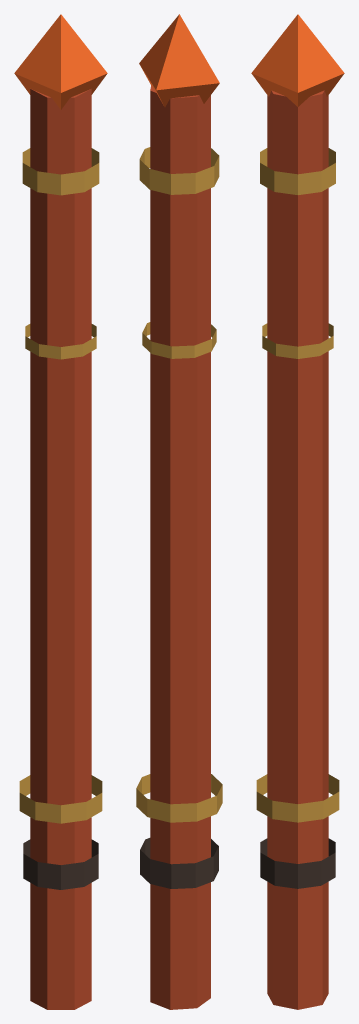
The model's file is custom_broom_cabo_ember.obj.
3 views of the same model, side by side, from view 1: azimuth 90°, elevation 25°; view 2: azimuth 150°, elevation 25°; view 3: azimuth 270°, elevation 25° (orthographic).
Bounding box in the file's own units: 0.17 × 1.97 × 0.17.
